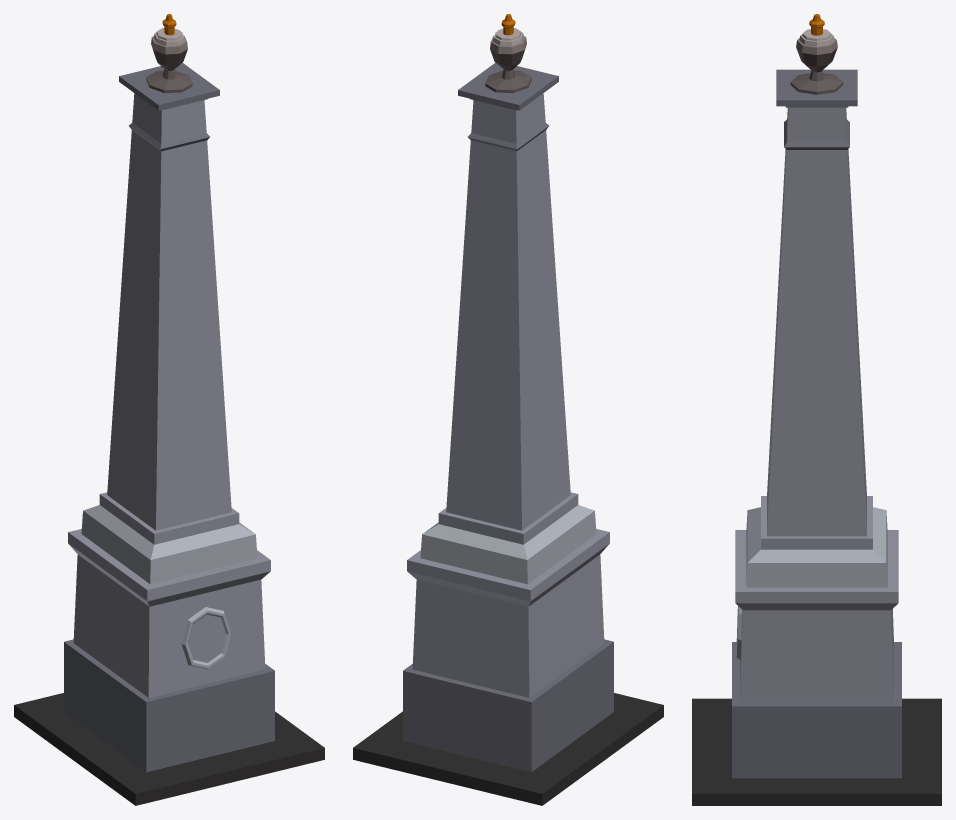
The model's file is test-glb.glb.
The picture shows the model from 3 angles, left to right: view 1: azimuth 30°, elevation 25°; view 2: azimuth 150°, elevation 25°; view 3: azimuth 270°, elevation 25°; orthographic projection. The views are drawn at different scales.
Visible parts, largest first — view 1: HWN20_Grave_23; view 2: HWN20_Grave_23; view 3: HWN20_Grave_23.
Boxes of the visible parts, x1,y1,x2,y2 form: HWN20_Grave_23: (14, 14, 324, 805); HWN20_Grave_23: (353, 14, 663, 805); HWN20_Grave_23: (692, 14, 941, 805).
Size of what is drawn, in the model's own units: 0.9877 by 3.61 by 1.1.
Materials: 1 (1 with a texture image).
